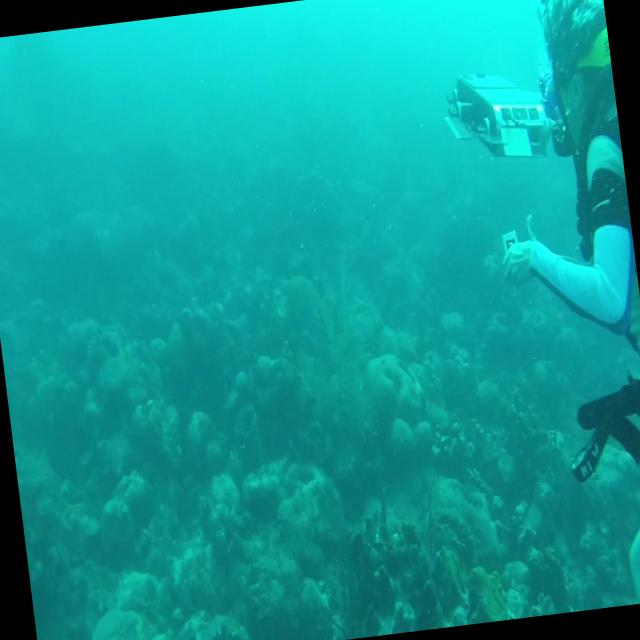human: (465, 0, 640, 615)
